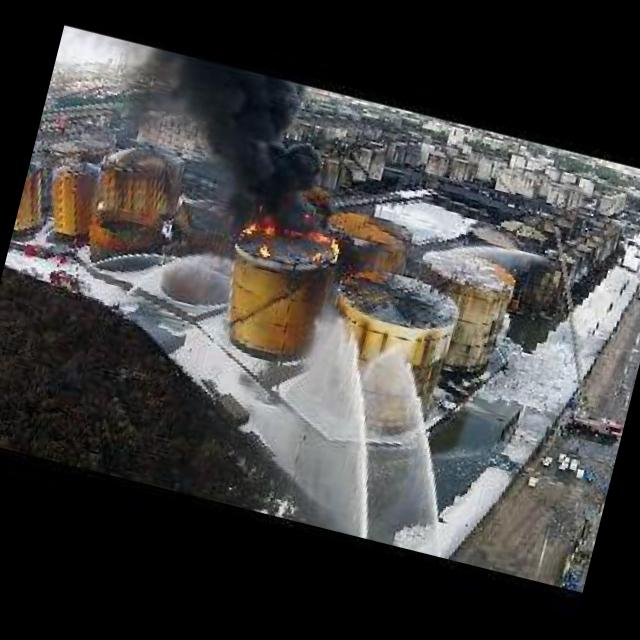fire: (240, 214, 261, 236), (306, 225, 332, 242), (254, 236, 274, 256), (329, 234, 346, 256), (310, 249, 323, 262), (262, 222, 274, 234)
smoke: (222, 116, 340, 228), (176, 58, 254, 176), (111, 39, 202, 125), (243, 73, 326, 134), (57, 23, 126, 65)
